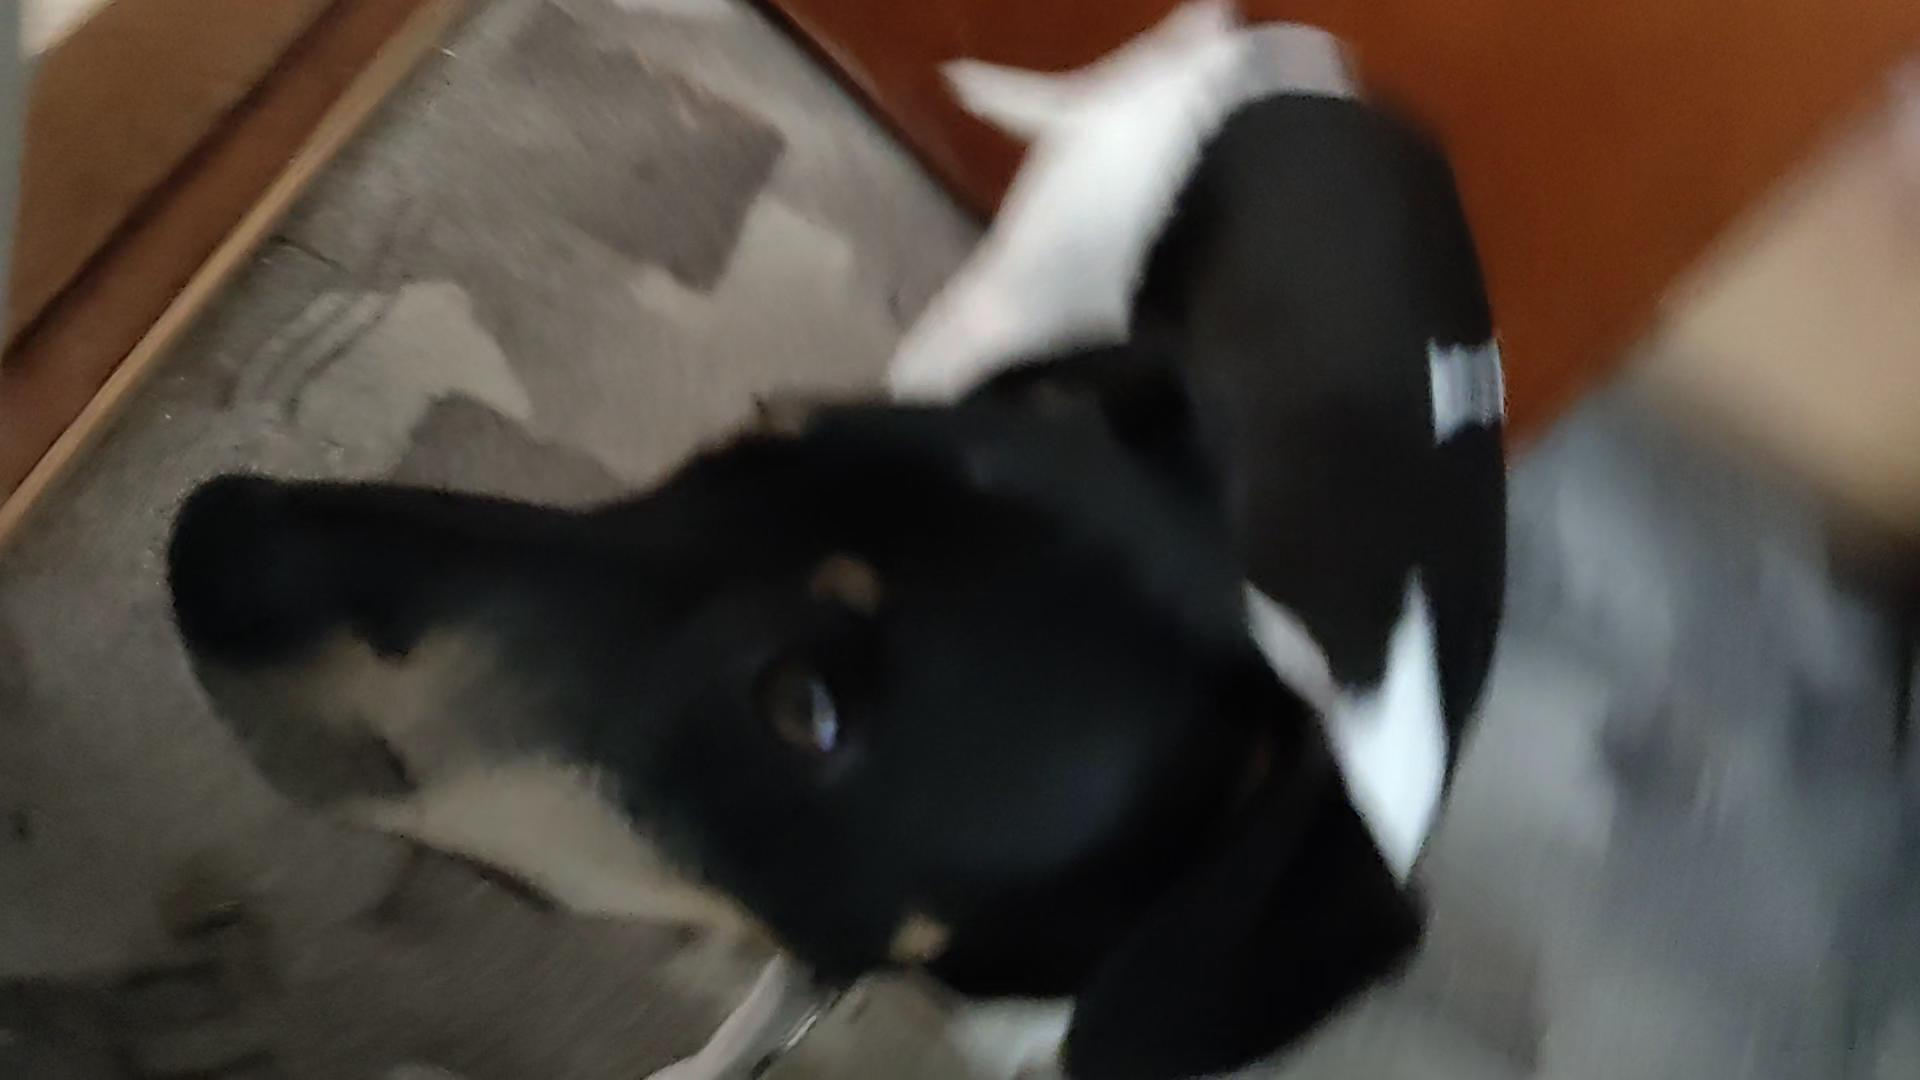Dog: (148, 0, 1520, 1079)
